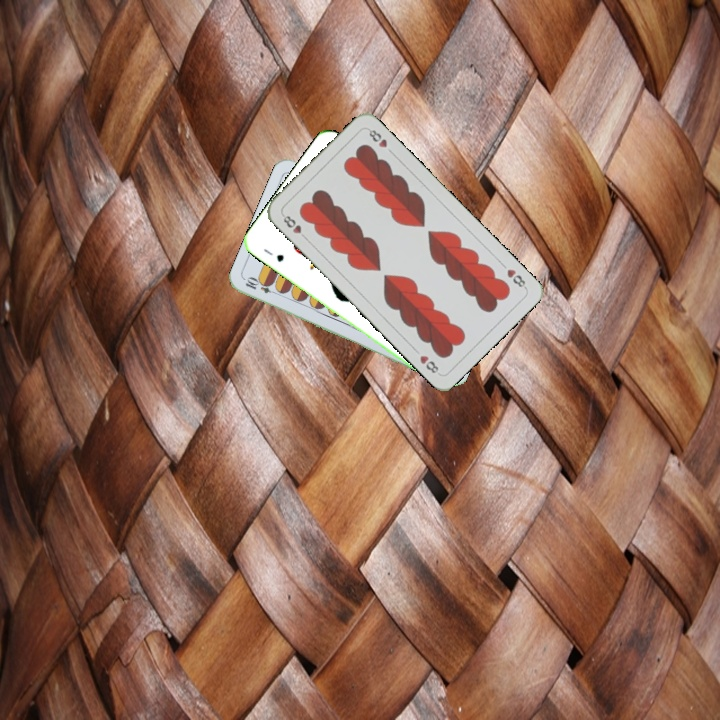E10: (241, 274, 281, 297)
GU: (259, 245, 287, 265)
H8: (278, 210, 310, 243), (503, 265, 529, 291)
